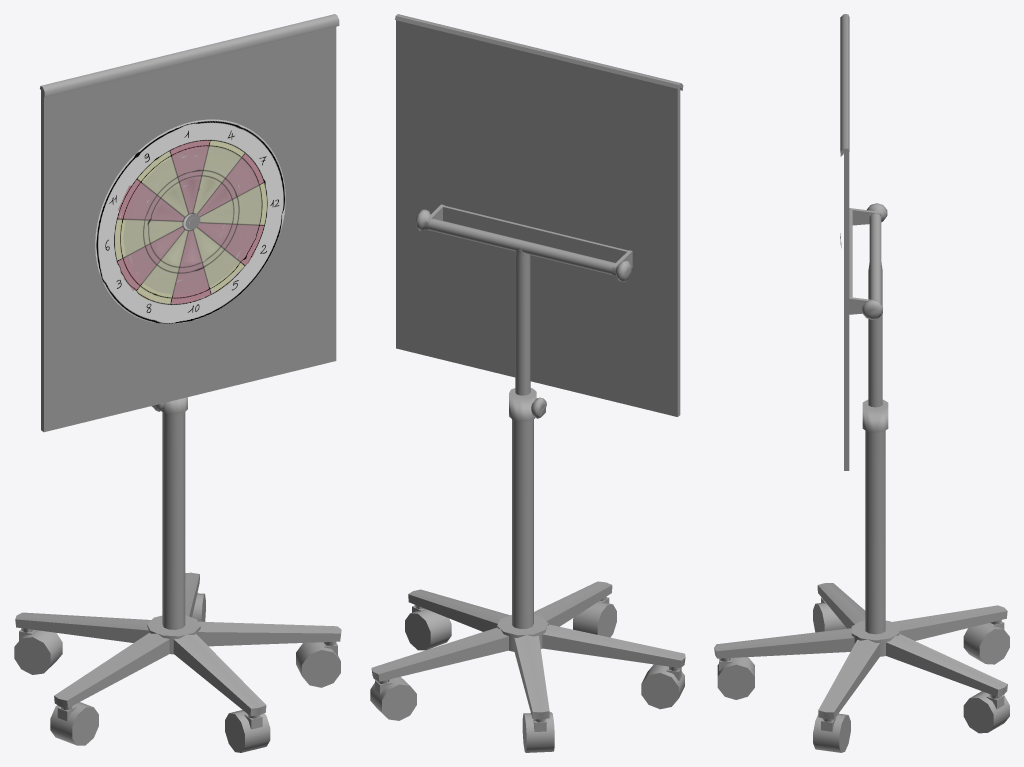
File: whiteBoardWider_main 3.fbx
3 renders of one model, left to right at view 1: azimuth 30°, elevation 25°; view 2: azimuth 150°, elevation 25°; view 3: azimuth 270°, elevation 25°, orthographic. The views are drawn at different scales.
Parts seen in each view (by area): view 1: whiteBoard_main, Plane_Dartboard, Ten, Fifteen, Five, Venti; view 2: whiteBoard_main; view 3: whiteBoard_main.
Boxes of the visible parts, <box> form: whiteBoard_main: <box>14,14,341,752</box>; Plane_Dartboard: <box>95,119,285,323</box>; Ten: <box>144,155,261,294</box>; Fifteen: <box>126,158,258,294</box>; Five: <box>123,147,240,285</box>; Venti: <box>126,147,258,283</box>; whiteBoard_main: <box>370,14,685,752</box>; whiteBoard_main: <box>714,14,1009,752</box>.
Size of the model in its own units: 82.36 by 175 by 76.59.
Materials: 4 (1 with a texture image).
